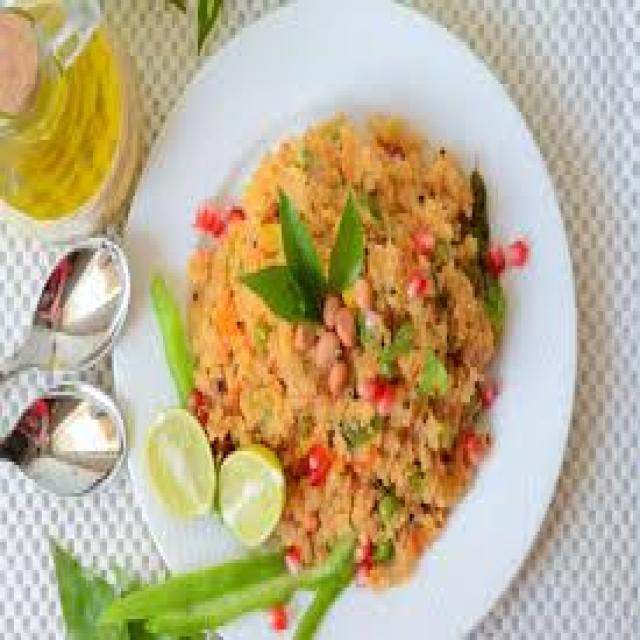UPMA: (180, 131, 506, 585)
